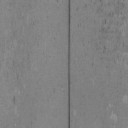surface scratch: (67, 0, 71, 126)
